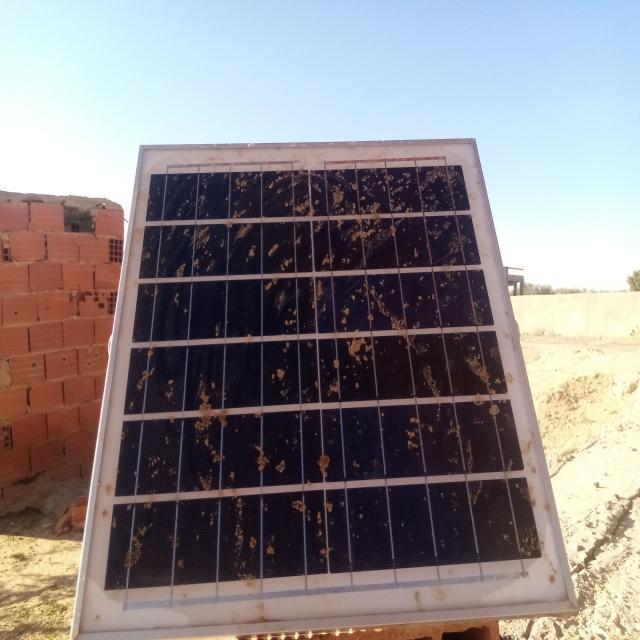Anomaly Solar Panel: (98, 157, 549, 595)
Surface Contaminant: (136, 163, 494, 589), (461, 341, 518, 437), (286, 495, 338, 567), (121, 336, 159, 418), (141, 429, 179, 483), (121, 518, 157, 570), (501, 454, 536, 507), (495, 519, 540, 560), (165, 531, 187, 570), (314, 451, 332, 482), (160, 373, 176, 405)
